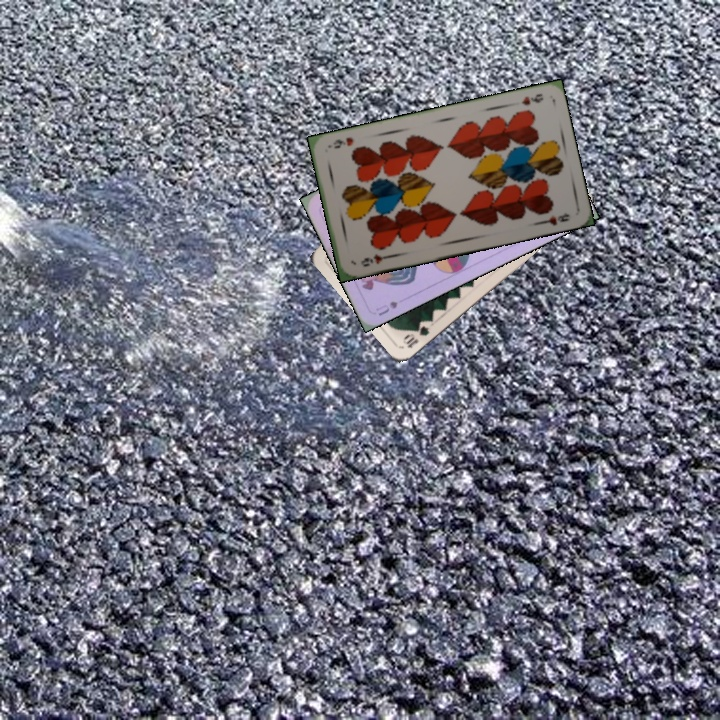G10: (400, 321, 432, 351)
H9: (356, 249, 392, 269), (517, 89, 546, 108)
SU: (372, 297, 401, 319)
